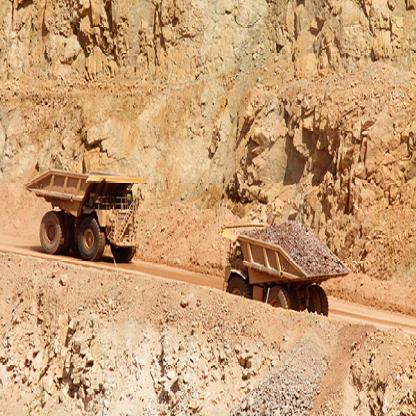dump_truck: (218, 212, 350, 327), (26, 162, 144, 266)
